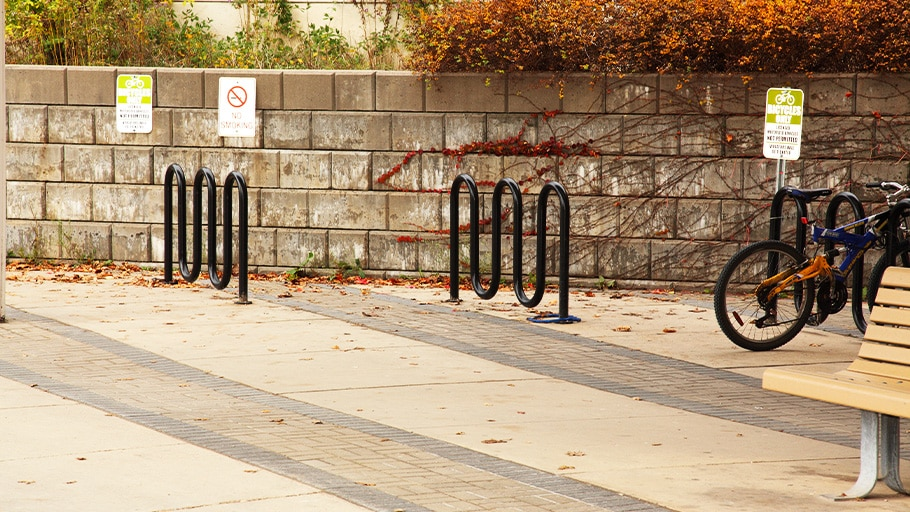Bicycle: (716, 179, 908, 354)
